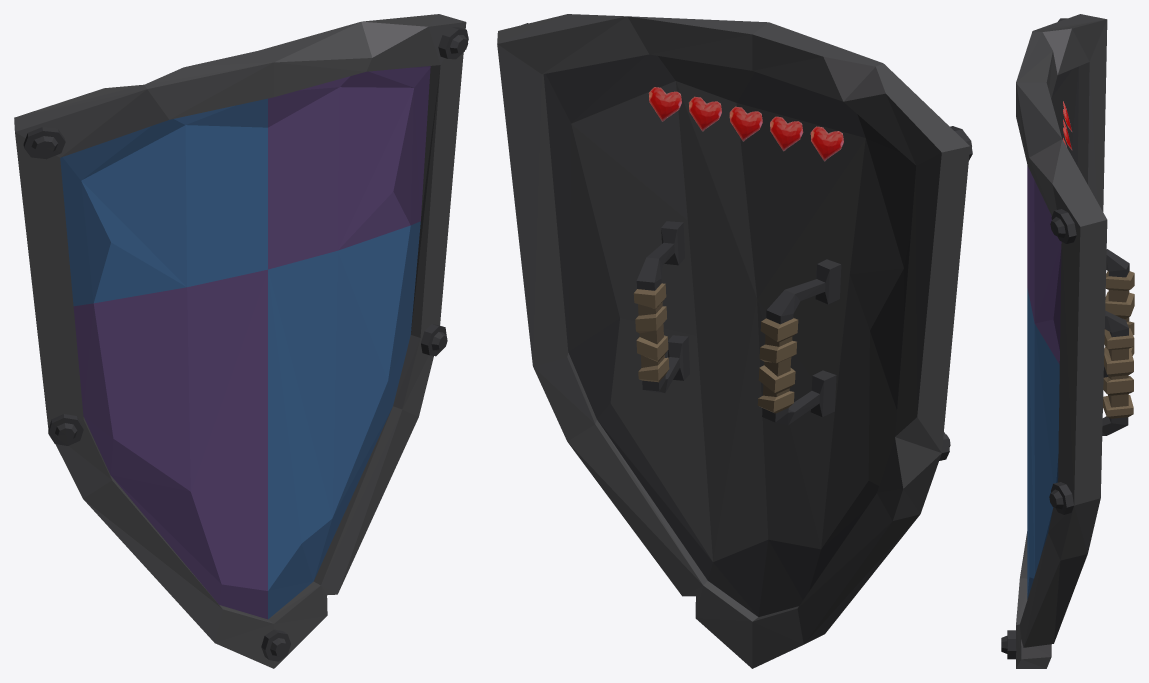
The model's file is shield_02.fbx.
The picture shows the model from 3 angles, left to right: view 1: azimuth 30°, elevation 25°; view 2: azimuth 150°, elevation 25°; view 3: azimuth 270°, elevation 25°; orthographic projection. The views are drawn at different scales.
Visible parts, largest first — view 1: SM_Wep_Shield_02; view 2: SM_Wep_Shield_02, Plane; view 3: SM_Wep_Shield_02, Plane.
Boxes of the visible parts, x1,y1,x2,y2 form: SM_Wep_Shield_02: (14,14,468,668); SM_Wep_Shield_02: (497,14,972,668); Plane: (648,87,843,161); SM_Wep_Shield_02: (1001,14,1134,668); Plane: (1063,101,1072,150).
Bounding box in the file's own units: 53.14 × 68.22 × 14.09.
2 materials, 2 textured.
